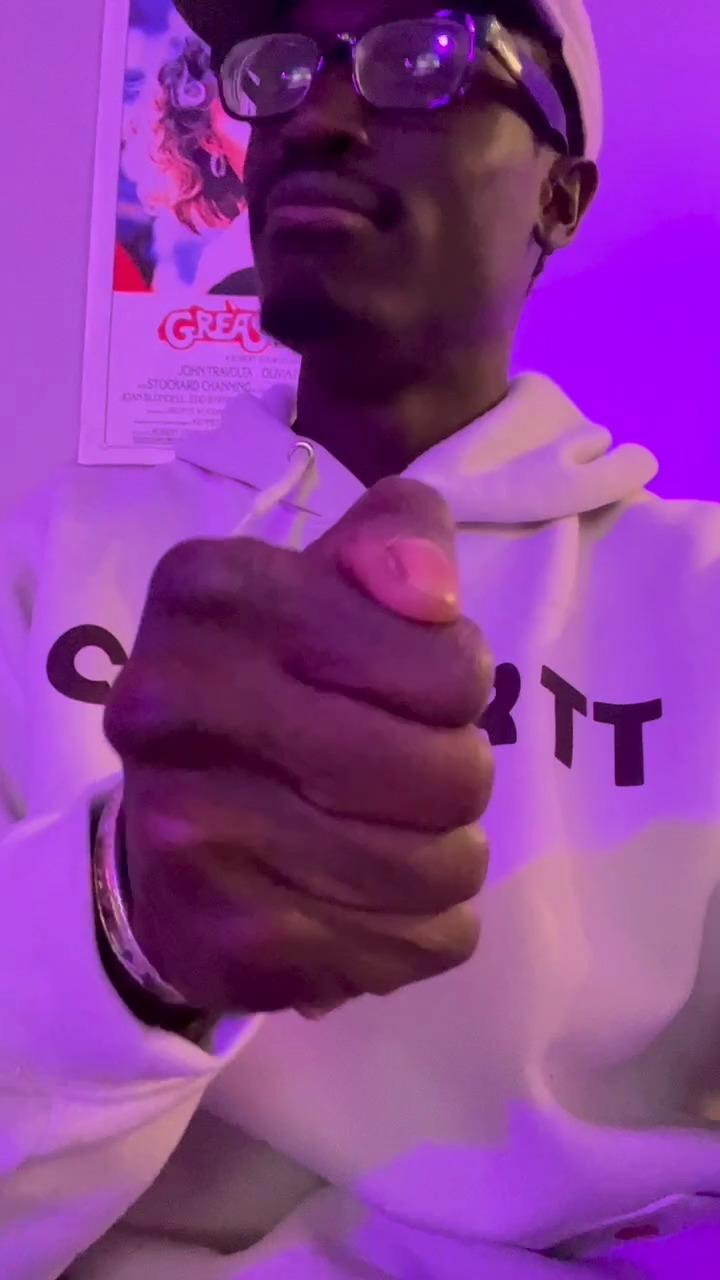Rock: (100, 476, 500, 1018)
